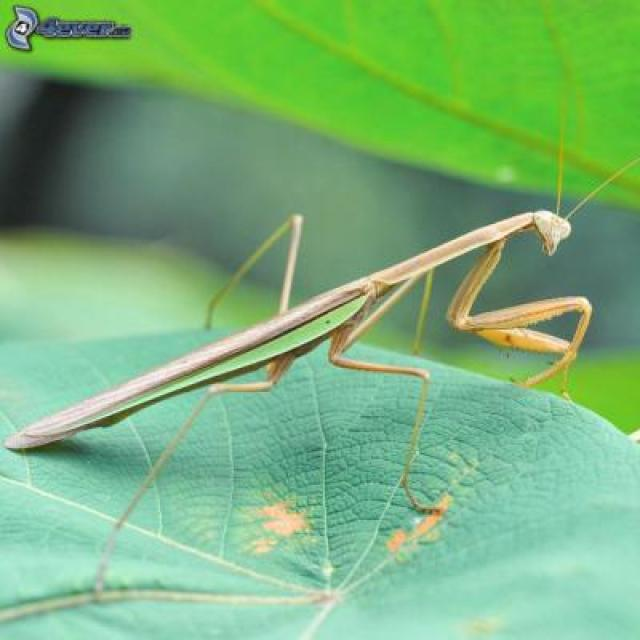antennae: (564, 162, 637, 218), (553, 103, 563, 213)
body: (0, 206, 568, 452)
insect: (0, 87, 638, 606)
legs: (96, 336, 298, 587), (324, 292, 436, 518), (450, 234, 590, 361), (456, 248, 574, 394), (201, 215, 309, 337)
mouthpart: (541, 236, 557, 258)
wings: (5, 279, 373, 445)
